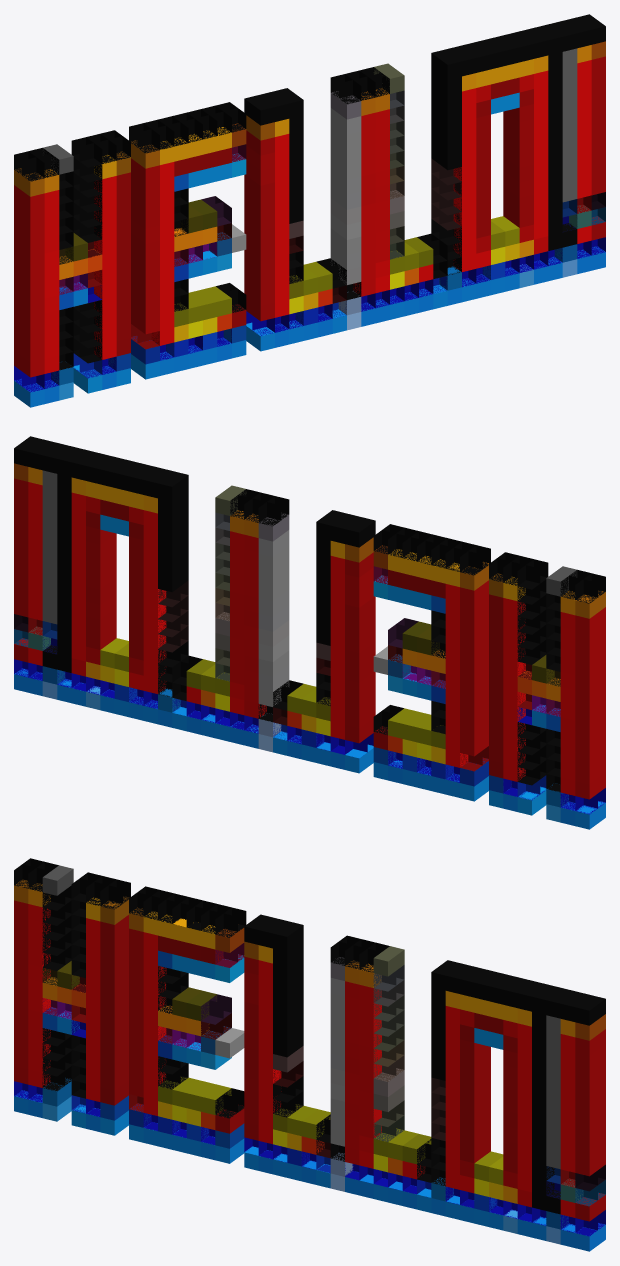
The model's file is hello.glb.
3 renders of one model, top to bottom at view 1: azimuth 30°, elevation 25°; view 2: azimuth 150°, elevation 25°; view 3: azimuth 330°, elevation 25°, orthographic.
Parts seen in each view (by area): view 1: pixel-art-hello-text-detailed-illustration-isolated-vector-, pixel-art-hello-text-detailed-illustration-isolated-vector-p; view 2: pixel-art-hello-text-detailed-illustration-isolated-vector-p, pixel-art-hello-text-detailed-illustration-isolated-vector-; view 3: pixel-art-hello-text-detailed-illustration-isolated-vector-, pixel-art-hello-text-detailed-illustration-isolated-vector-p.
Part boxes in pixels (bbox=[...]): pixel-art-hello-text-detailed-illustration-isolated-vector-: bbox=[22, 20, 605, 407]; pixel-art-hello-text-detailed-illustration-isolated-vector-p: bbox=[14, 14, 597, 401]; pixel-art-hello-text-detailed-illustration-isolated-vector-p: bbox=[14, 442, 597, 829]; pixel-art-hello-text-detailed-illustration-isolated-vector-: bbox=[22, 436, 605, 823]; pixel-art-hello-text-detailed-illustration-isolated-vector-: bbox=[14, 864, 597, 1251]; pixel-art-hello-text-detailed-illustration-isolated-vector-p: bbox=[22, 858, 605, 1245].
Size of the model in its own units: 7.8 by 3.12 by 0.385.
